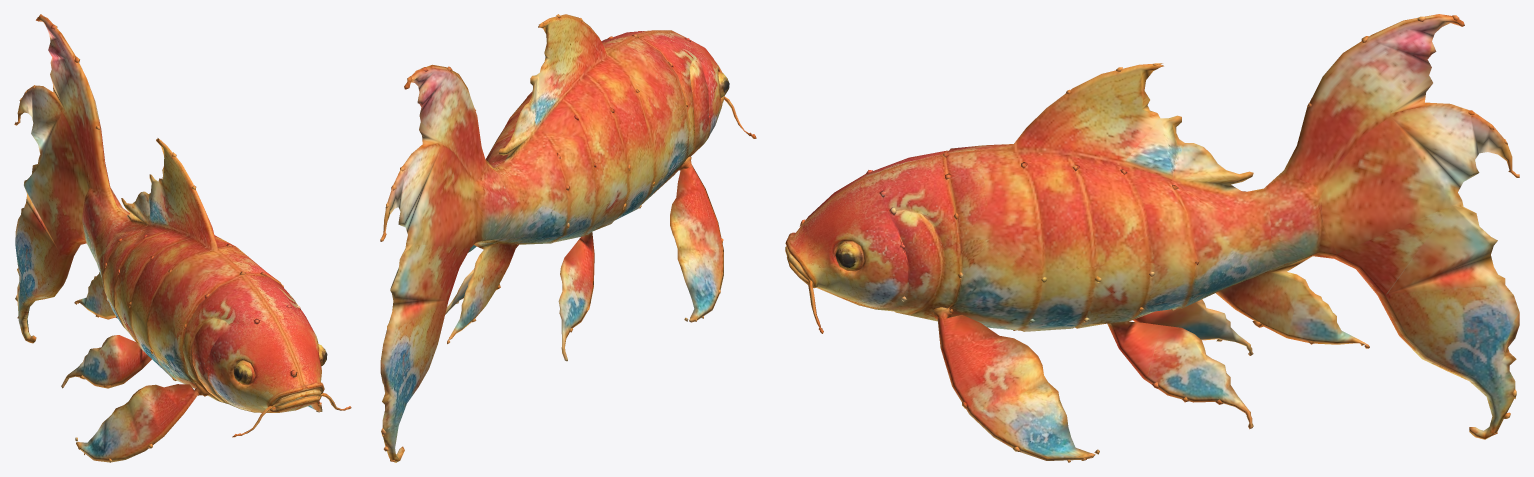
Rendered from 金鲤鱼灯.glb.
3 renders of one model, left to right at view 1: azimuth 30°, elevation 25°; view 2: azimuth 150°, elevation 25°; view 3: azimuth 270°, elevation 25°, orthographic. The views are drawn at different scales.
Parts seen in each view (by area): view 1: tripo_node_536521c0-9984-440c-8568-3a1c376da832; view 2: tripo_node_536521c0-9984-440c-8568-3a1c376da832; view 3: tripo_node_536521c0-9984-440c-8568-3a1c376da832.
Part boxes in pixels (<box>): tripo_node_536521c0-9984-440c-8568-3a1c376da832: <box>14,14,351,462</box>; tripo_node_536521c0-9984-440c-8568-3a1c376da832: <box>380,14,756,462</box>; tripo_node_536521c0-9984-440c-8568-3a1c376da832: <box>785,14,1519,462</box>.
Size of the model in its own units: 0.4355 by 0.6387 by 0.998.
1 material, 1 textured.
